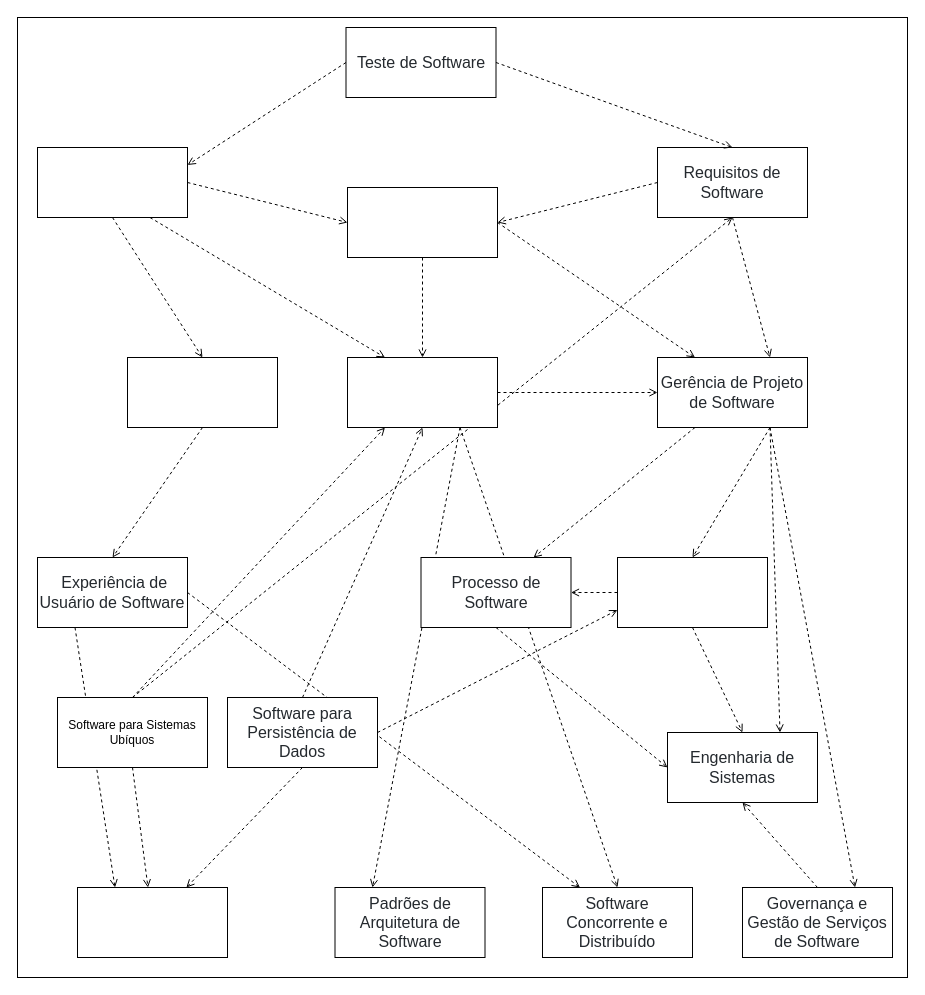
Some shapes in this 925 by 995 pixel diagram are drawn without their labels. The centre of each missing label's shape, as x and y in pixels:
Arquitetura de Software: (x=422, y=392)
Construção de Software: (x=112, y=182)
Design de Software: (x=422, y=222)
Domínios de Software: (x=152, y=922)
Modelagem de Software: (x=202, y=392)
Processos de Qualidade de Software: (x=692, y=592)
